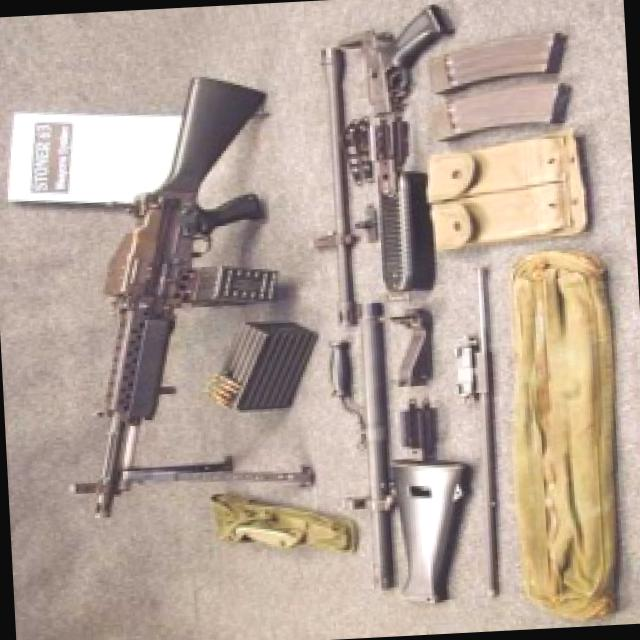knife: (32, 56, 317, 560)
